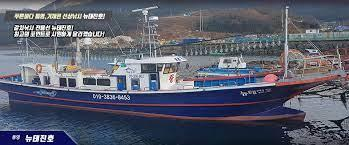Ship: (1, 47, 349, 127)
